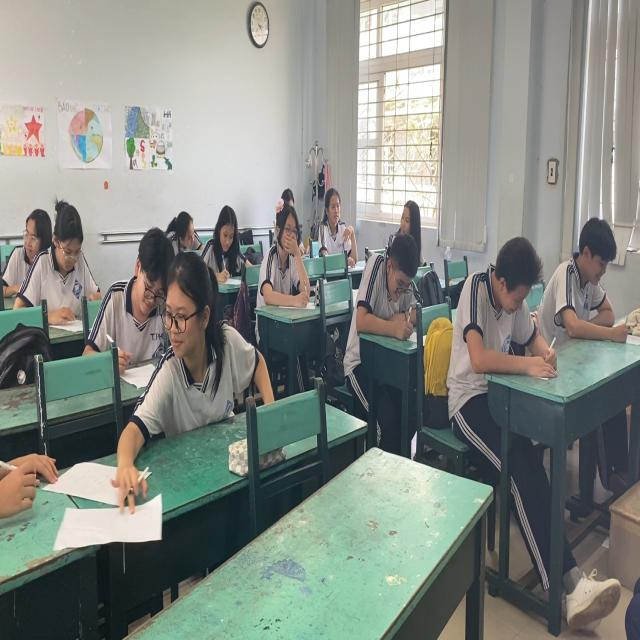cheating: (159, 248, 237, 455)
not_cheating: (451, 224, 552, 376), (546, 204, 622, 348), (13, 190, 98, 313), (252, 193, 307, 306), (120, 227, 167, 341), (373, 224, 425, 320), (311, 169, 351, 258), (212, 202, 237, 264), (170, 202, 200, 252), (396, 183, 416, 234)
